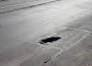pothole: (38, 35, 61, 44)
